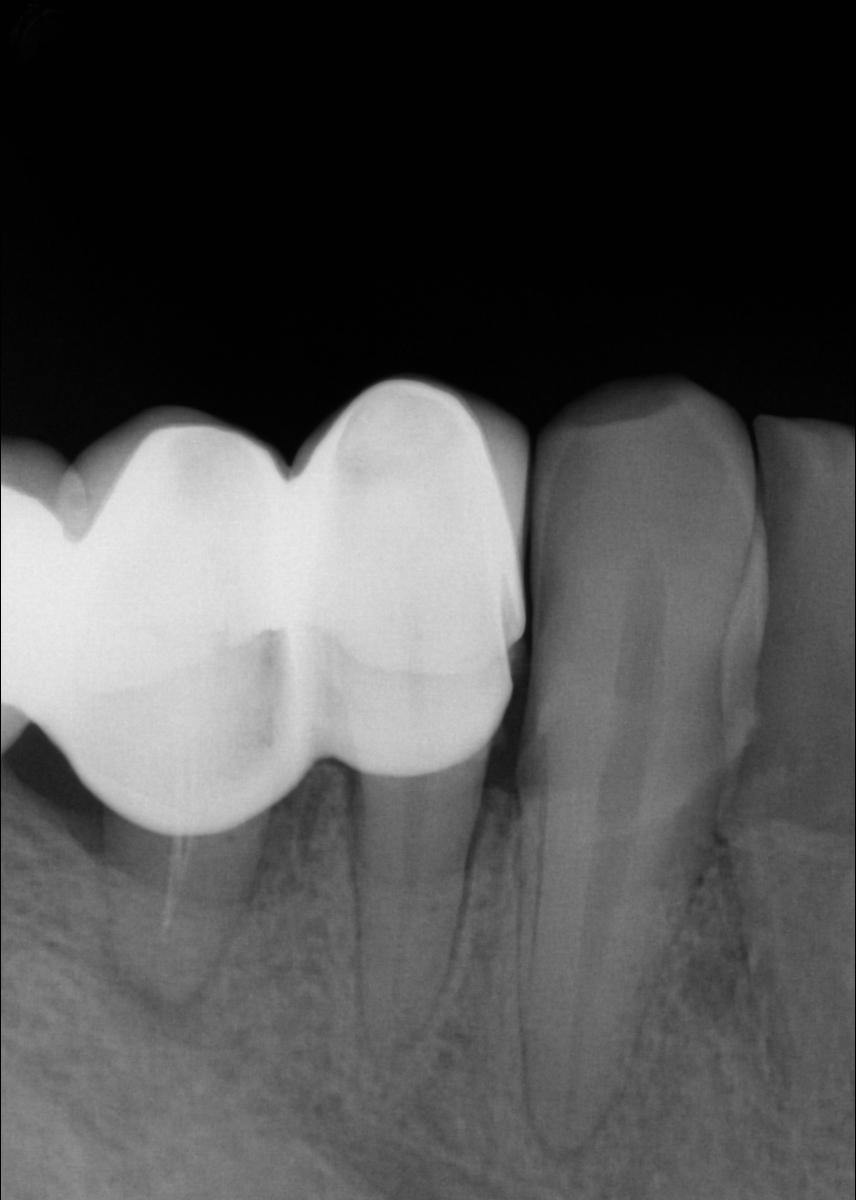Furcation Involvement: (105, 948, 205, 1039)
